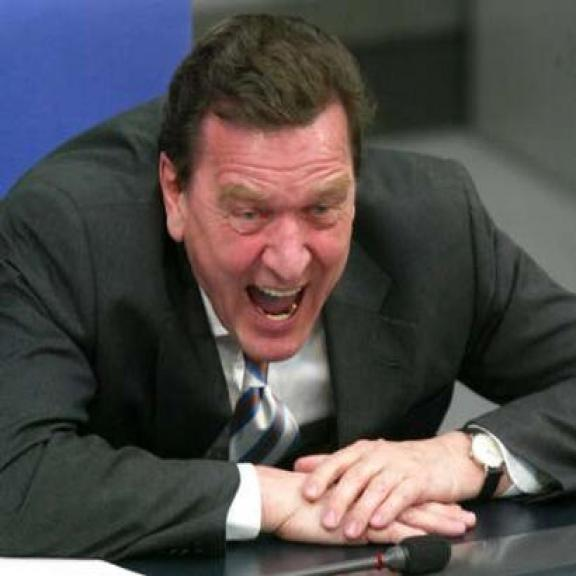face: (154, 118, 362, 368)
